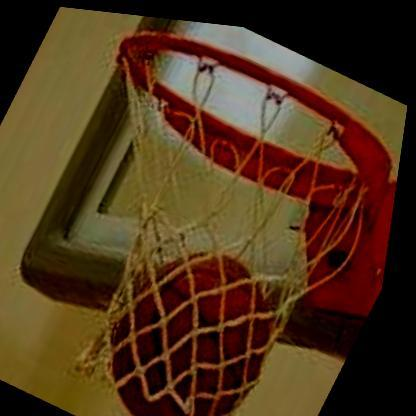basketball: (83, 212, 320, 416)
